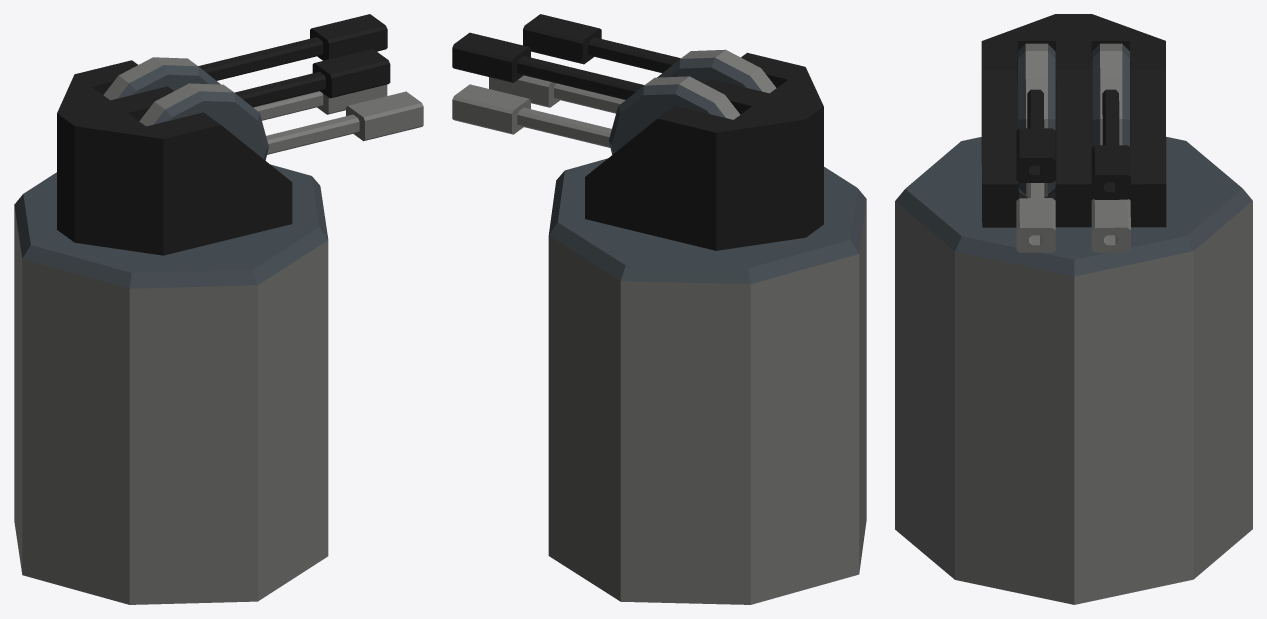
Rendered from Laser.fbx.
3 views of the same model, side by side, from view 1: azimuth 30°, elevation 25°; view 2: azimuth 150°, elevation 25°; view 3: azimuth 270°, elevation 25° (orthographic). The views are drawn at different scales.
Parts seen in each view (by area): view 1: Laser; view 2: Laser; view 3: Laser.
Boxes of the visible parts, x1,y1,x2,y2 form: Laser: (14,14,423,604); Laser: (452,14,866,604); Laser: (895,14,1252,604).
Size of the model in its own units: 78.45 by 92.83 by 62.62.
